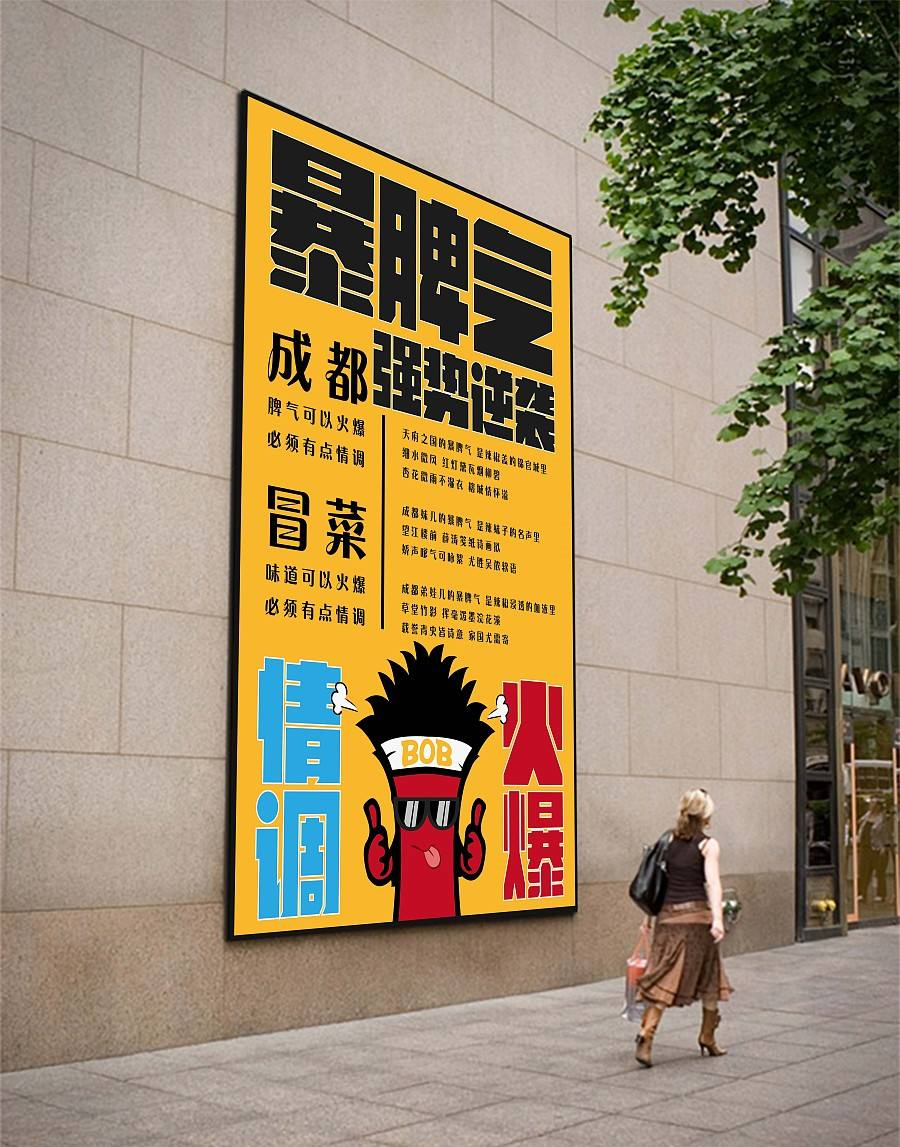bill: (233, 93, 575, 941)
